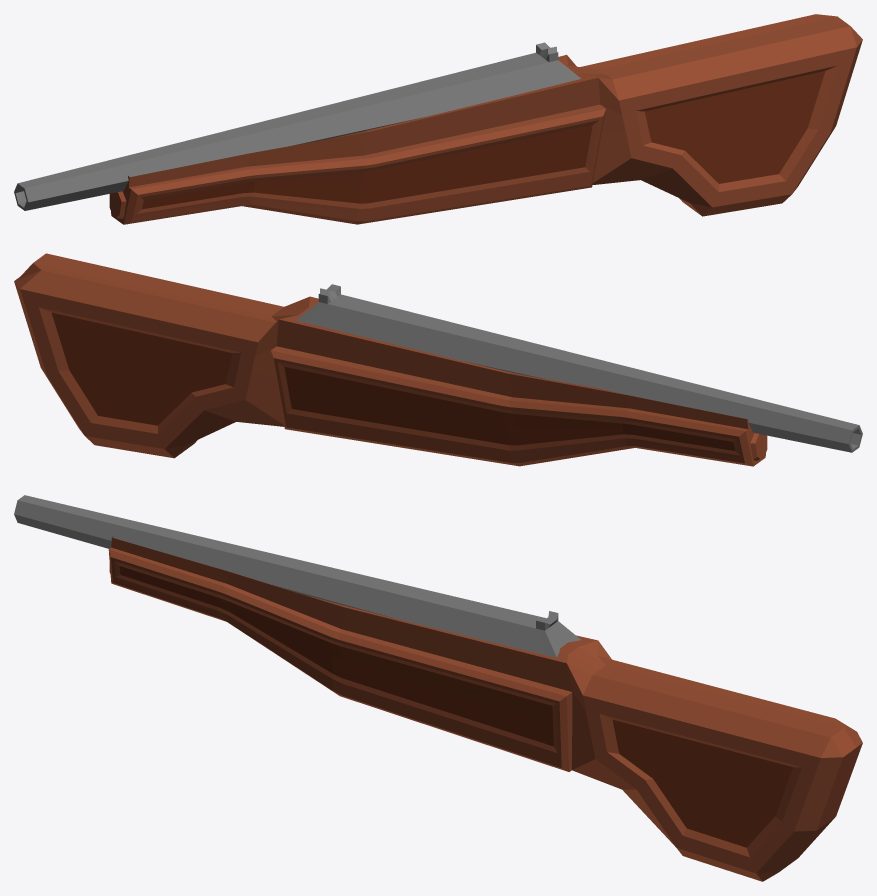
The model's file is Hunter Riffle.fbx.
3 views of the same model, one above another, from view 1: azimuth 30°, elevation 25°; view 2: azimuth 150°, elevation 25°; view 3: azimuth 330°, elevation 25° (orthographic).
Parts seen in each view (by area): view 1: Cube.001; view 2: Cube.001; view 3: Cube.001.
Boxes of the visible parts, x1=… form: Cube.001: x1=14, y1=14, x2=862, y2=224; Cube.001: x1=14, y1=253, x2=862, y2=466; Cube.001: x1=14, y1=495, x2=862, y2=881.
Size of the model in its own units: 296 by 68.89 by 26.97.
